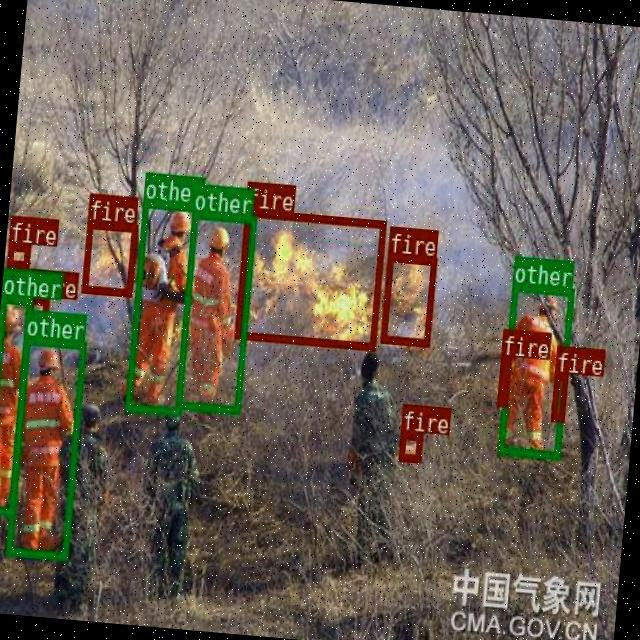fire: (233, 208, 385, 350), (378, 253, 436, 346), (80, 218, 136, 294), (550, 370, 567, 420), (396, 429, 422, 461), (496, 354, 510, 406), (5, 242, 30, 267), (26, 294, 48, 318)
